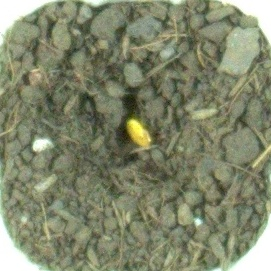chilli seed: (123, 117, 156, 150)
